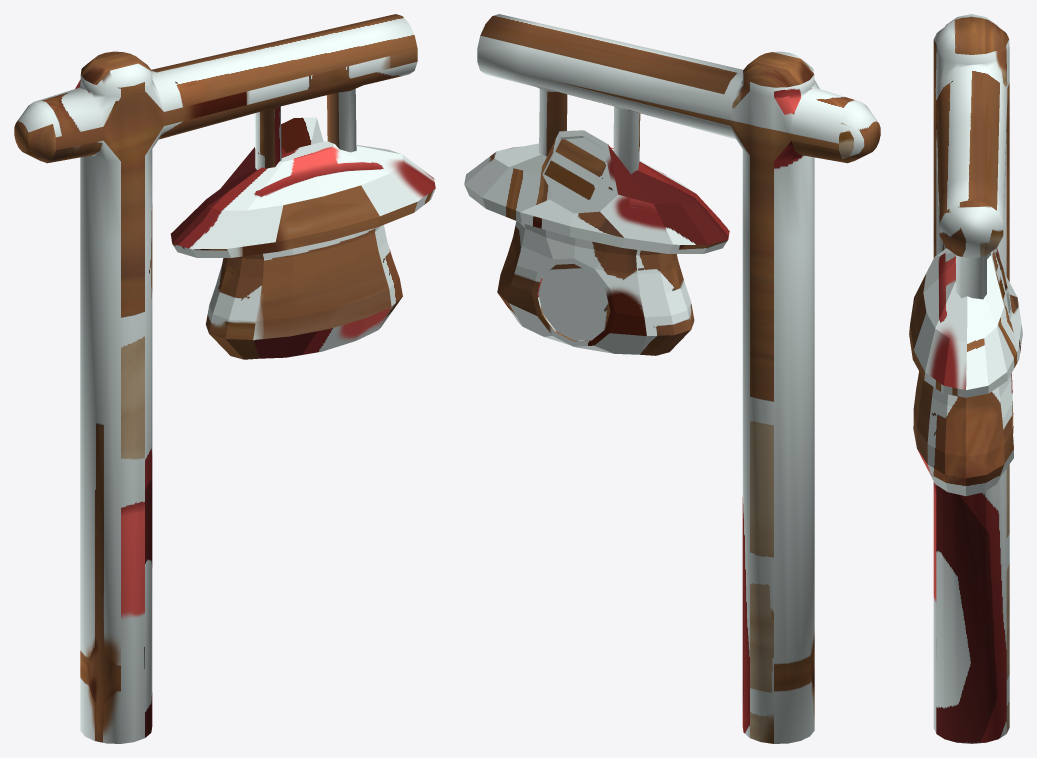
Rendered from letrero venta .fbx.
The picture shows the model from 3 angles, left to right: view 1: azimuth 30°, elevation 25°; view 2: azimuth 150°, elevation 25°; view 3: azimuth 270°, elevation 25°; orthographic projection. The views are drawn at different scales.
Visible parts, largest first — view 1: Cubo.001; view 2: Cubo.001; view 3: Cubo.001.
Boxes of the visible parts, x1,y1,x2,y2 form: Cubo.001: (14,14,435,743); Cubo.001: (464,14,880,743); Cubo.001: (909,14,1022,743).
Bounding box in the file's own units: 452 × 704 × 104.
Materials: 1 (1 with a texture image).
